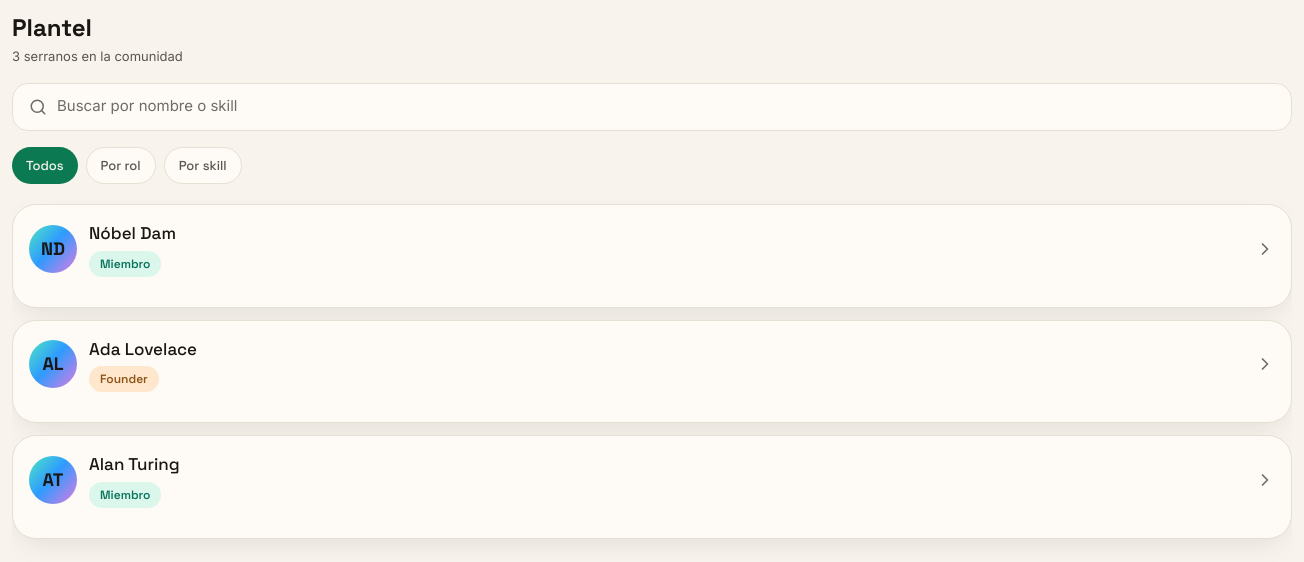
Test: PlantelList › filters the list when typing a name
Type "ada" into the field labelled "Buscar por nombre o skill". click: (666, 107)
box: x1=57 y1=95 x2=1275 y2=118
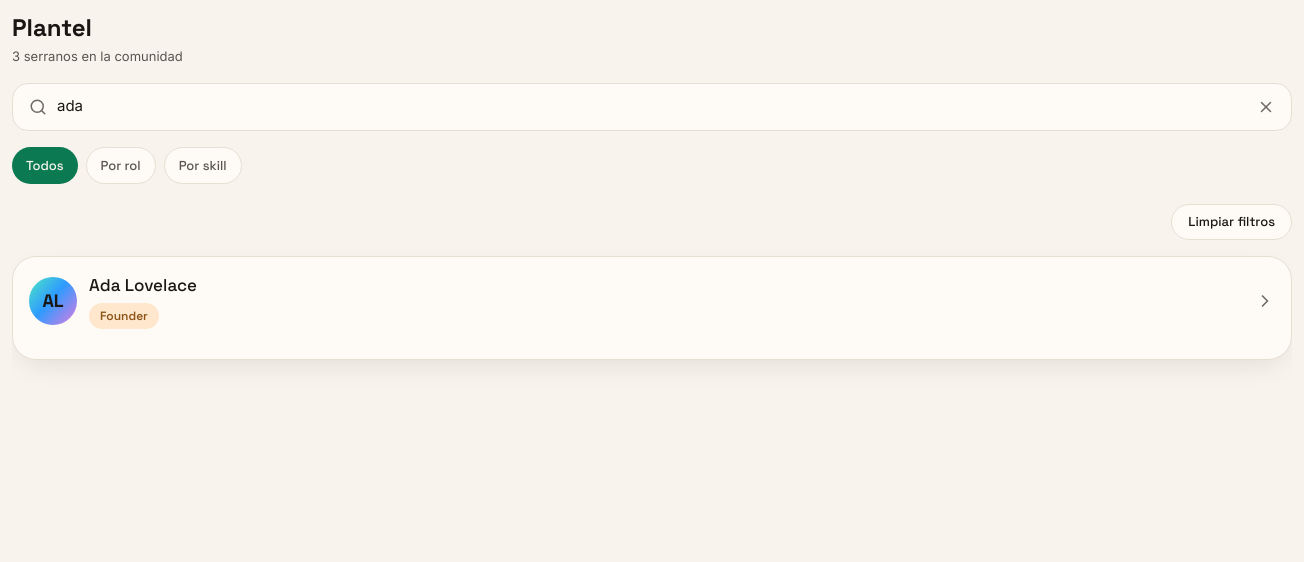
Expected: the text "Ada Lovelace" is shown, x1=89 y1=273 x2=197 y2=298
Expected: the link "Nóbel Dam" is gone
